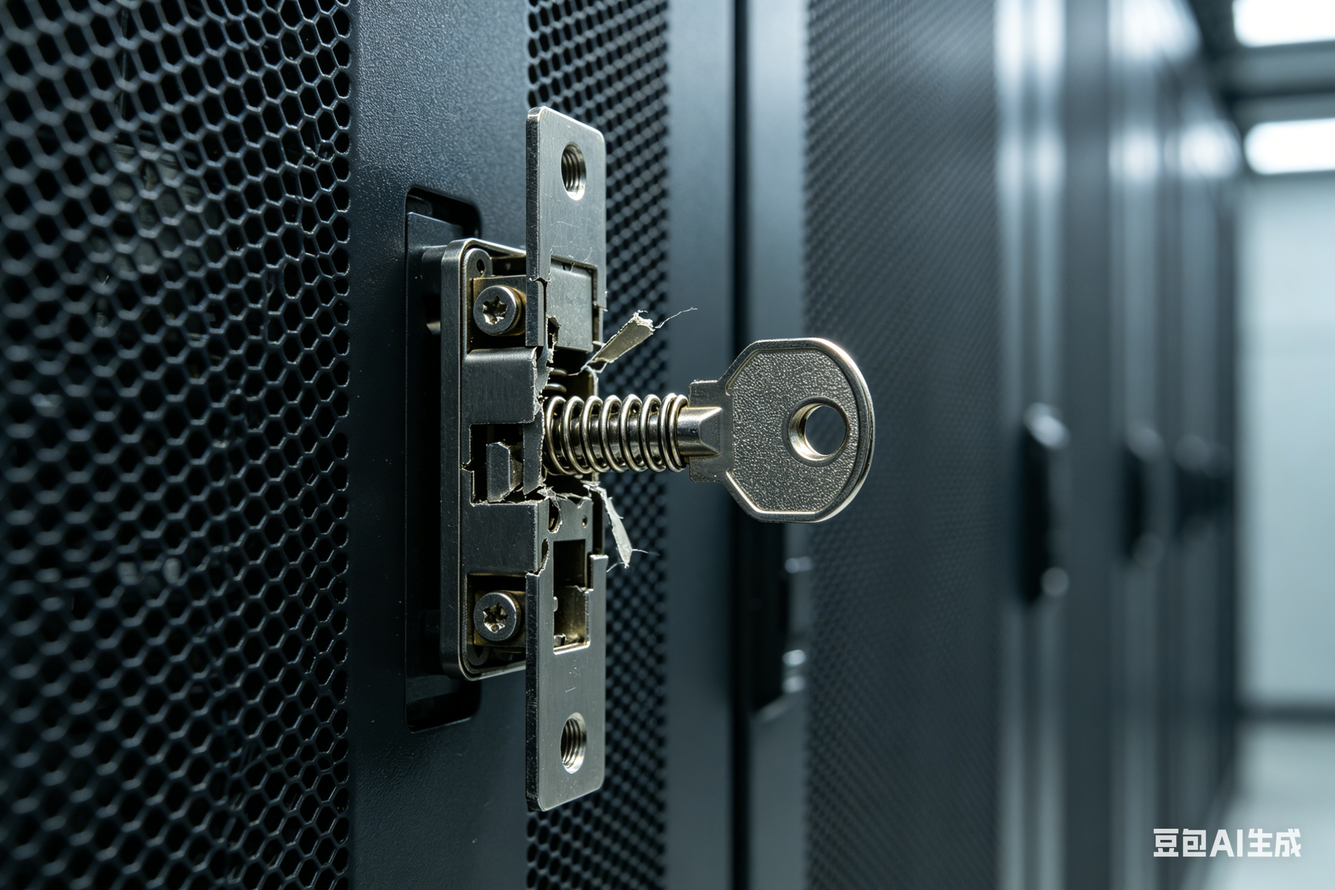BadLock: (501, 257, 607, 662)
